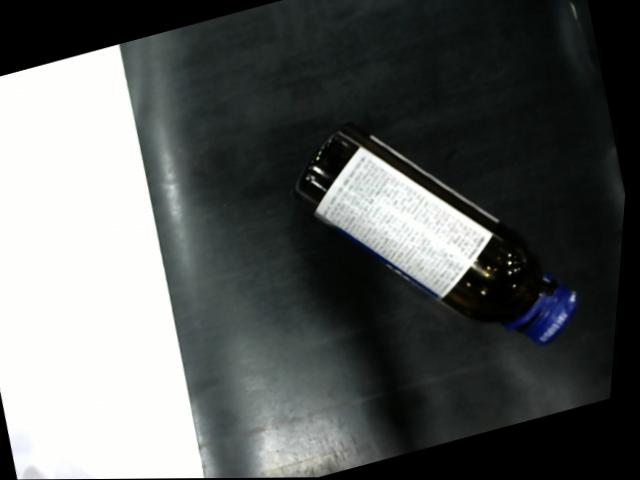glass: (292, 116, 594, 352)
